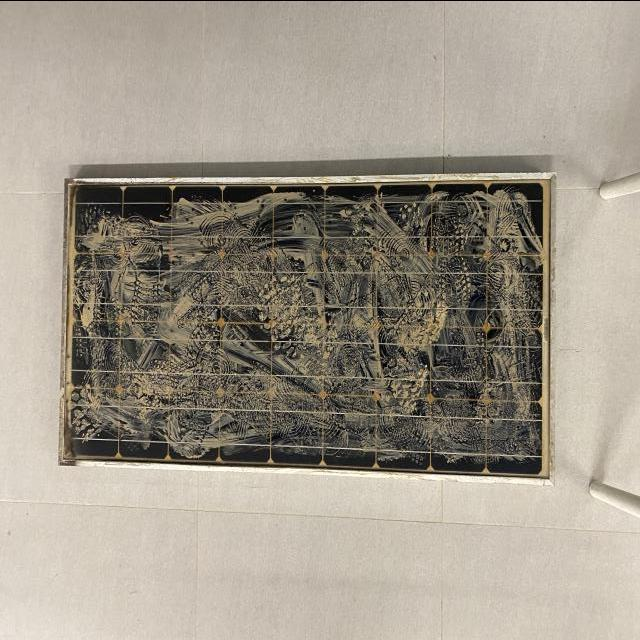Dusty: (67, 181, 552, 468)
